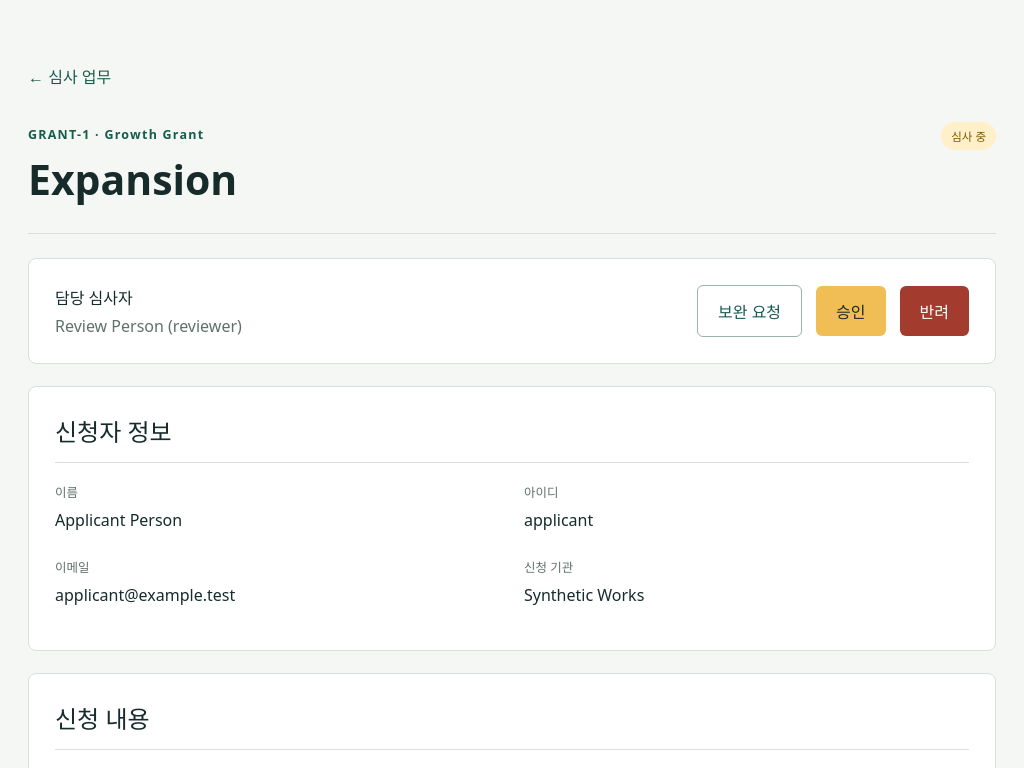
Test: ReviewerApplicationPage › requires a reason before 반려
This screenshot has width=1024, height=768.
Step 1. Click the button "반려" → (934, 311), box [900, 286, 969, 336]
(page scrolled)
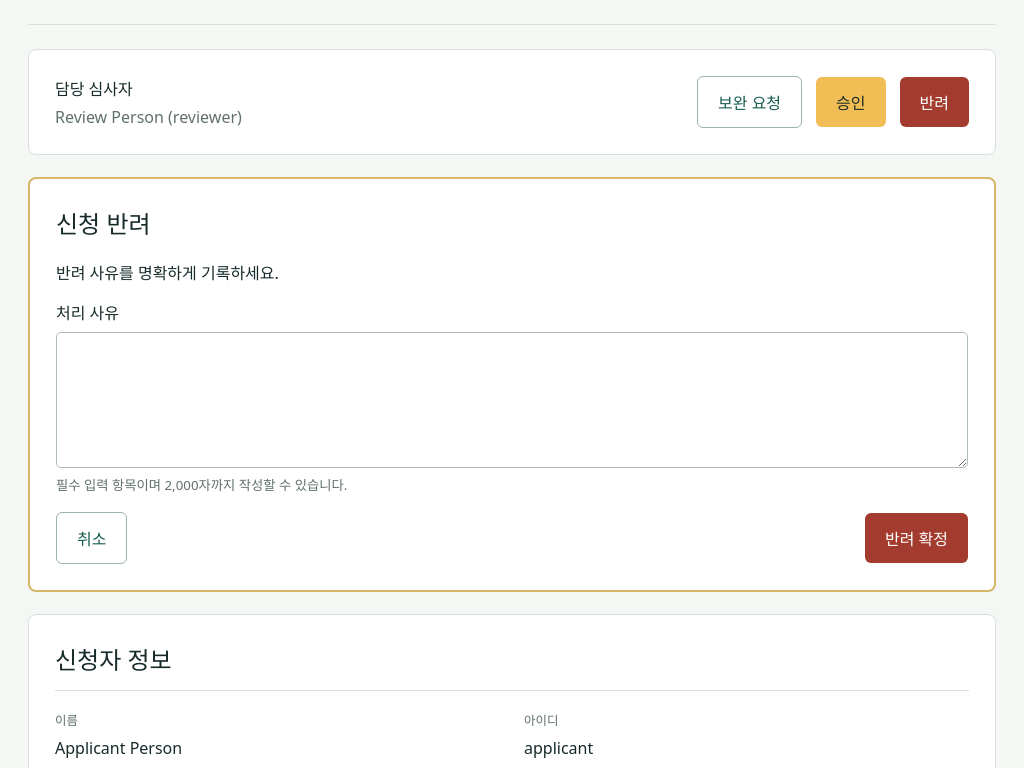
Step 2. Submit the form "반려 확정", box [28, 177, 996, 592]
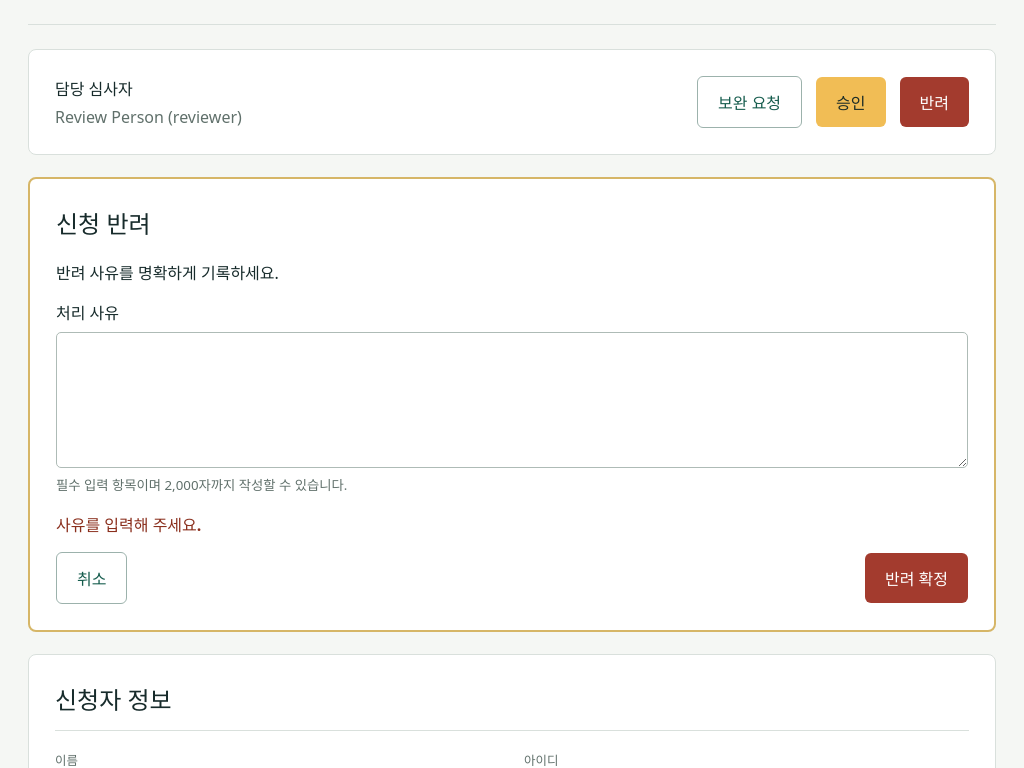
Result: the text "사유를 입력해 주세요." is shown at [56, 514, 201, 536]
